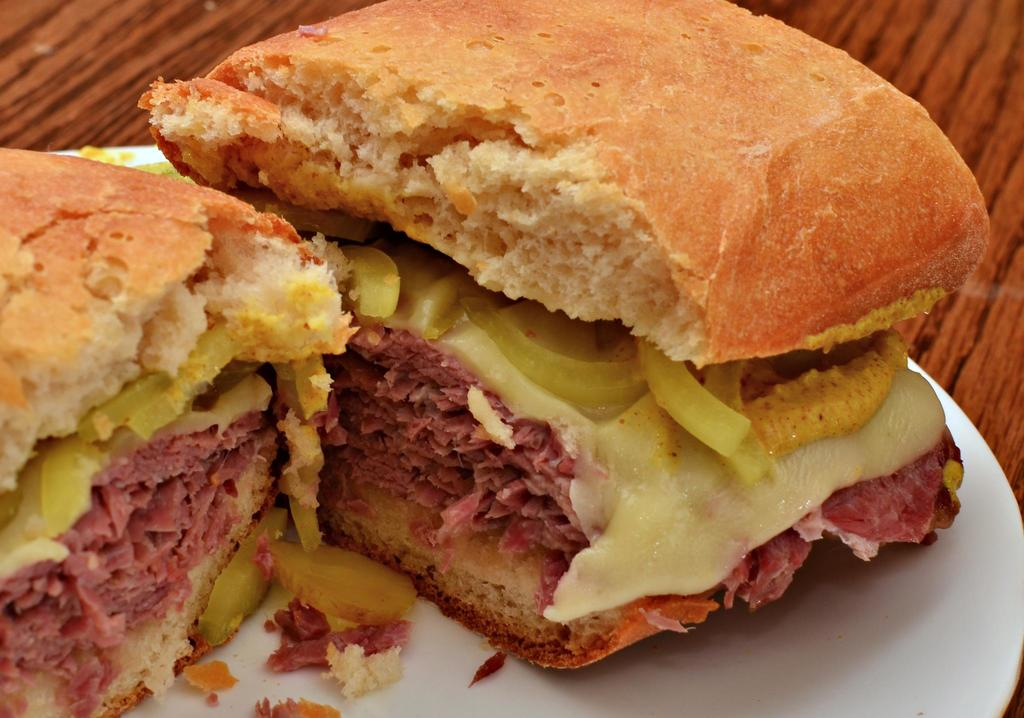sandwich: (140, 0, 992, 670), (0, 142, 368, 717)
